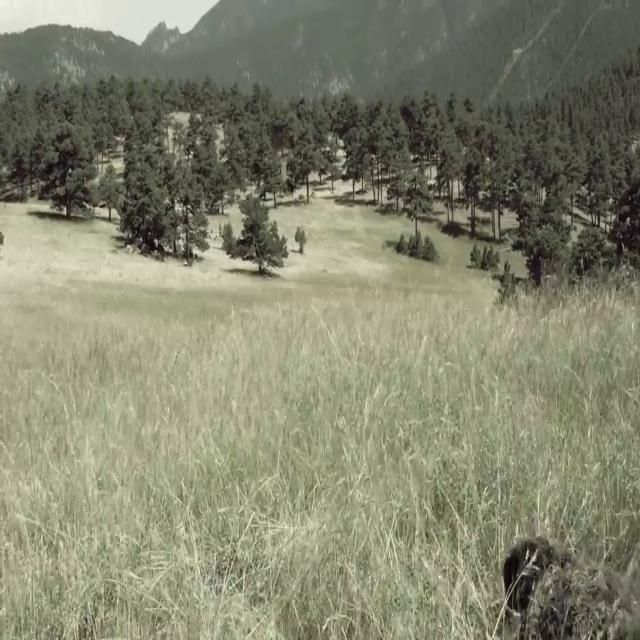Camouflage: (486, 537, 640, 618)
